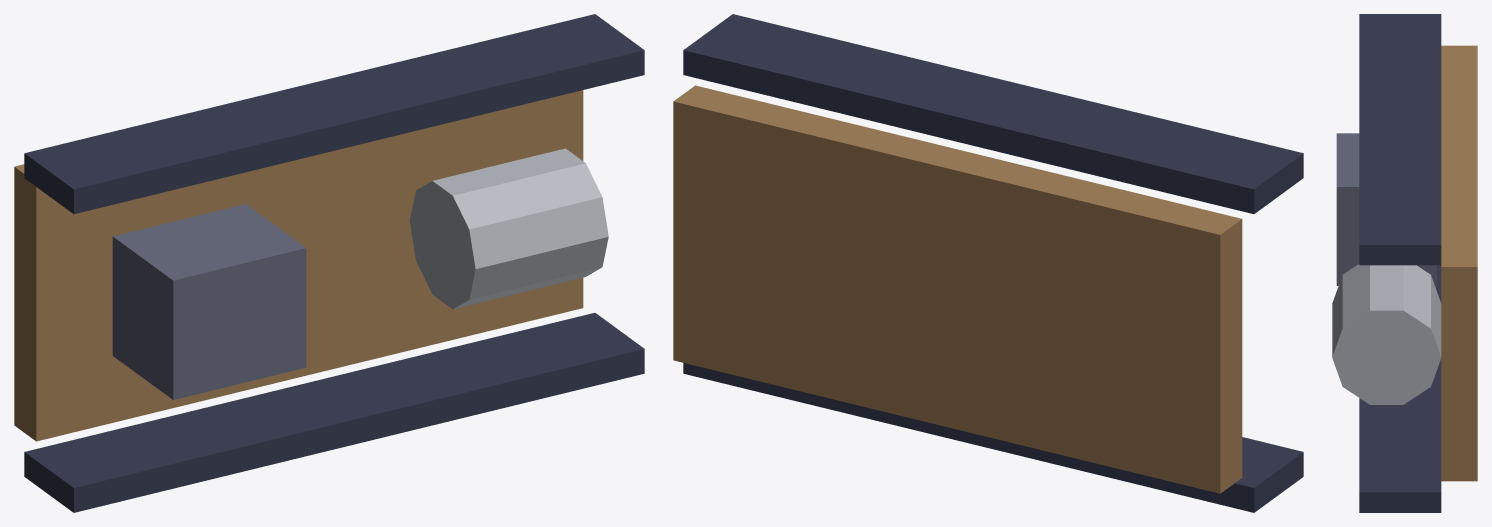
The model's file is 08_skyship_deck.glb.
3 renders of one model, left to right at view 1: azimuth 30°, elevation 25°; view 2: azimuth 150°, elevation 25°; view 3: azimuth 270°, elevation 25°, orthographic. The views are drawn at different scales.
Visible parts, largest first — view 1: deck_insert, rail_right, rail_left, cargo_crate, winch; view 2: deck_insert, rail_right, rail_left; view 3: rail_right, deck_insert, winch, rail_left, cargo_crate.
Part boxes in pixels (x1,y1,x2,y2): deck_insert: (14,90,583,441); rail_right: (24,14,644,214); rail_left: (24,313,644,512); cargo_crate: (112,204,306,399); winch: (409,148,608,309); deck_insert: (673,85,1242,493); rail_right: (683,14,1303,213); rail_left: (683,363,1303,512); rail_right: (1359,14,1441,265); deck_insert: (1441,45,1477,481); winch: (1332,264,1441,404); rail_left: (1359,265,1441,512); cargo_crate: (1336,133,1436,285).
Size of the model in its own units: 1.56 by 0.845 by 0.416.
